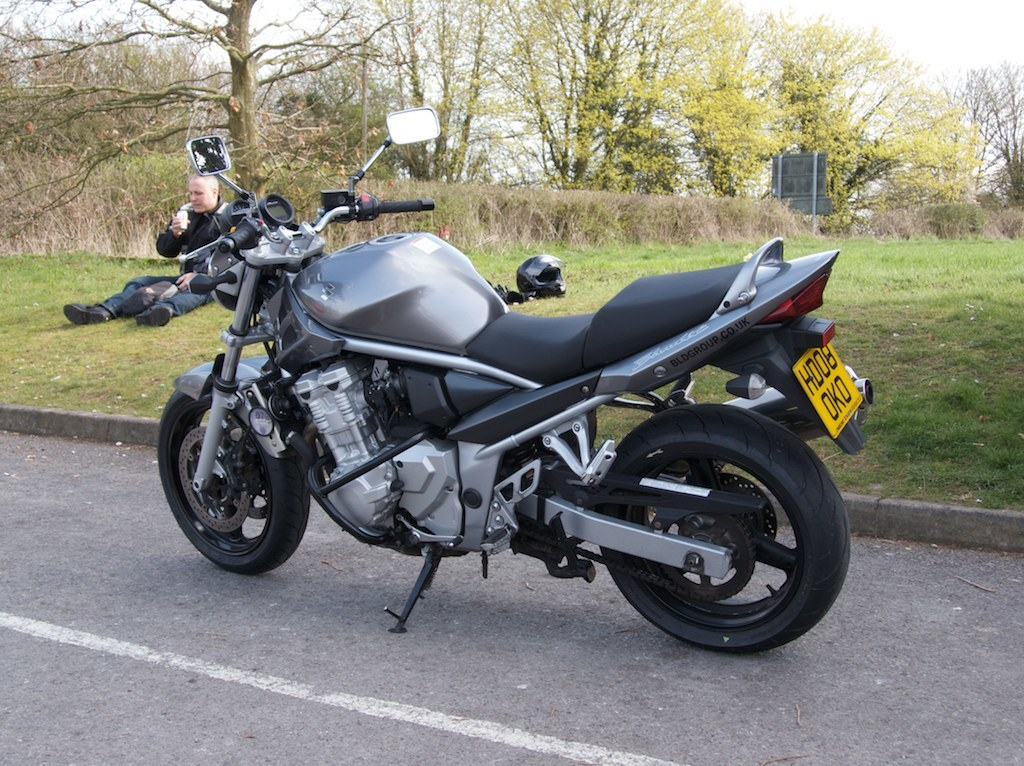Tree: (0, 0, 1023, 253)
